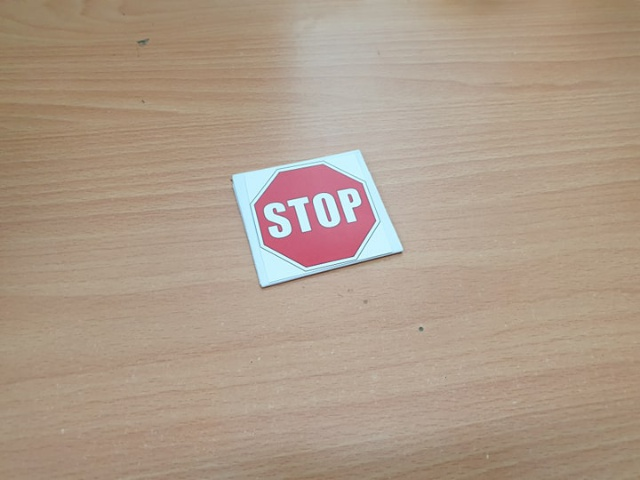Stop: (252, 165, 379, 267)
